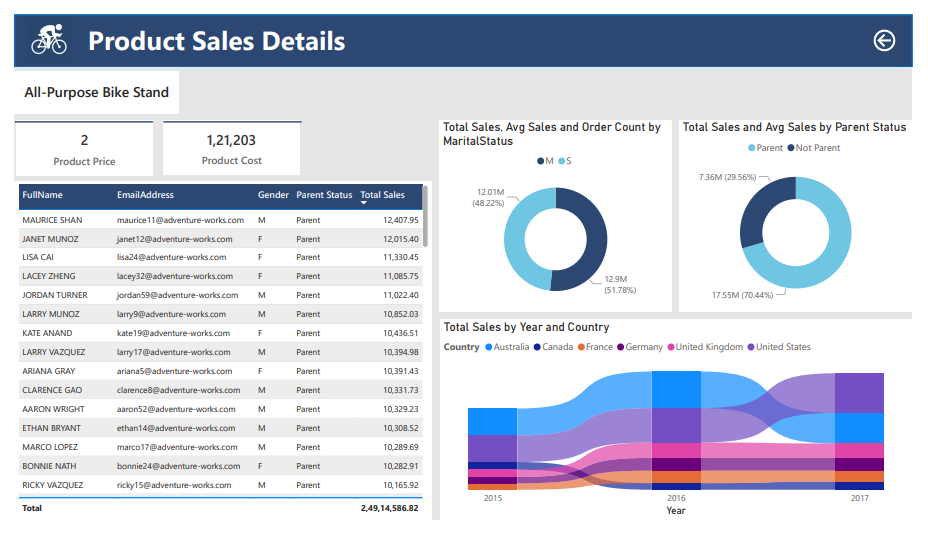

The dashboard page shown, as its layout file describes it:
{"tool":"powerbi","page":{"name":"Product Detail","canvas":[1280,720],"ordinal":1},"visuals":[{"type":"shape","box":[0,0,1279.8,73.7],"z":0},{"type":"textbox","box":[97.9,4.6,380.2,63.4],"z":1000},{"type":"card","fields":{"Values":["Min(Products.ProductPrice)"]},"box":[2.1,149.6,194.7,79.7],"z":2000},{"type":"image","box":[0,0.2,97.9,72],"z":3000},{"type":"card","fields":{"Values":["Sum(Products.ProductCost)"]},"box":[212.1,149.6,194.4,78.1],"z":4000},{"type":"shape","box":[212.1,114.9,197.4,75.1],"z":5000},{"type":"shape","box":[0,114.9,197.4,75.1],"z":6000},{"type":"card","fields":{"Values":["Min(Products.ProductName)"]},"box":[0,81,234.2,60.4],"z":7000},{"type":"actionButton","box":[1219.8,15.9,49.6,40.7],"z":8000},{"type":"tableEx","fields":{"Values":["Customers Table.FullName","Customers Table.EmailAddress","Customers Table.Gender","Customers Table.Parent Status","Measure Table.Total Sales"]},"box":[0,236.9,595.1,483.1],"z":9000},{"type":"ribbonChart","fields":{"Category":["DateTable.Date.Variation.Date Hierarchy.Year","DateTable.Date.Variation.Date Hierarchy.Quarter","DateTable.Date.Variation.Date Hierarchy.Month","DateTable.Date.Variation.Date Hierarchy.Day"],"Y":["Measure Table.Total Sales"],"Series":["Territories.Country"]},"box":[606.6,433.7,673.2,286.3],"z":10000},{"type":"donutChart","fields":{"Y":["Measure Table.Total Sales"],"Category":["Customers Table.MaritalStatus"]},"box":[606.1,149.6,331,273.5],"z":11000},{"type":"donutChart","fields":{"Y":["Measure Table.Total Sales"],"Category":["Customers Table.Parent Status"]},"box":[948.2,149.6,331.7,273.5],"z":12000}]}

Visuals, with their boxes in screenshot pixels (x1, y1, x2, y2), scaled from the page's 1280x720 canvas onto the 928x536 screenshot:
shape: Rect(0, 0, 927, 55)
textbox: Rect(71, 3, 347, 51)
card - Min(Products.ProductPrice): Rect(2, 111, 143, 171)
image: Rect(0, 0, 71, 54)
card - Sum(Products.ProductCost): Rect(154, 111, 295, 170)
shape: Rect(154, 86, 297, 141)
shape: Rect(0, 86, 143, 141)
card - Min(Products.ProductName): Rect(0, 60, 170, 105)
actionButton: Rect(884, 12, 920, 42)
tableEx - Customers Table.FullName x Customers Table.EmailAddress: Rect(0, 176, 431, 535)
ribbonChart - DateTable.Date.Variation.Date Hierarchy.Year x DateTable.Date.Variation.Date Hierarchy.Quarter: Rect(440, 323, 927, 535)
donutChart - Measure Table.Total Sales x Customers Table.MaritalStatus: Rect(439, 111, 679, 315)
donutChart - Measure Table.Total Sales x Customers Table.Parent Status: Rect(687, 111, 927, 315)
